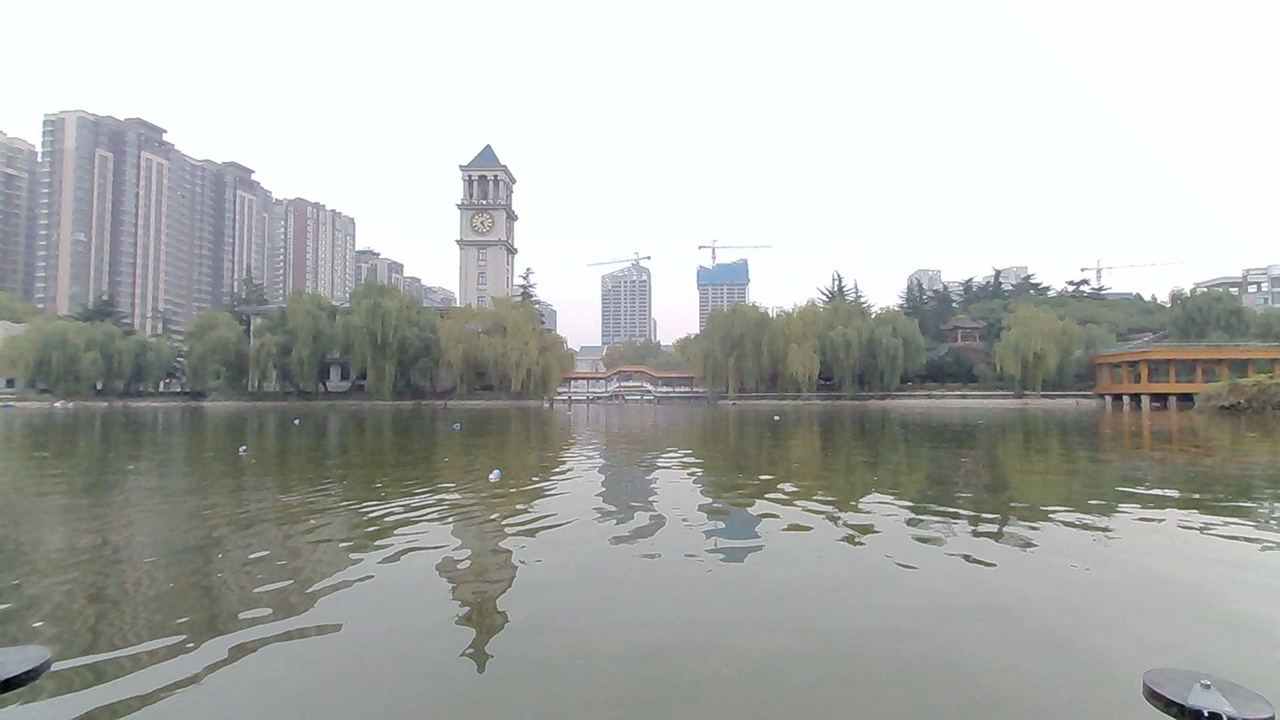bottle: (464, 457, 524, 490), (223, 440, 264, 463), (759, 406, 798, 429), (436, 411, 473, 435), (279, 408, 315, 432)
